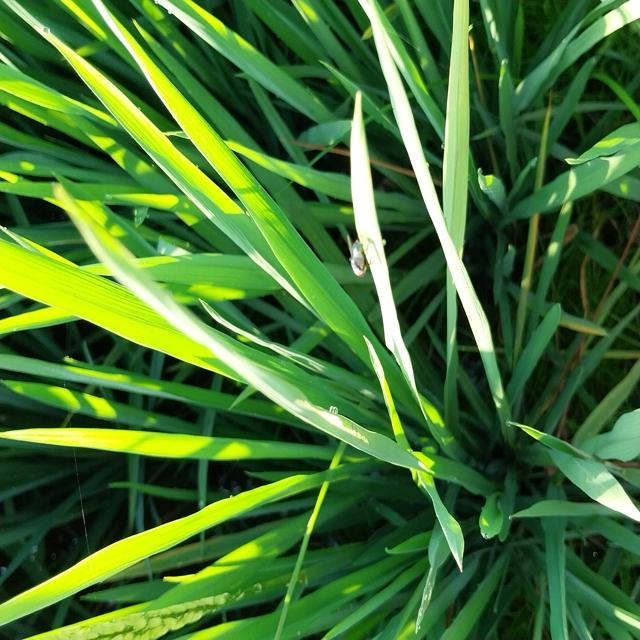Leaf scald: (330, 223, 390, 300)
